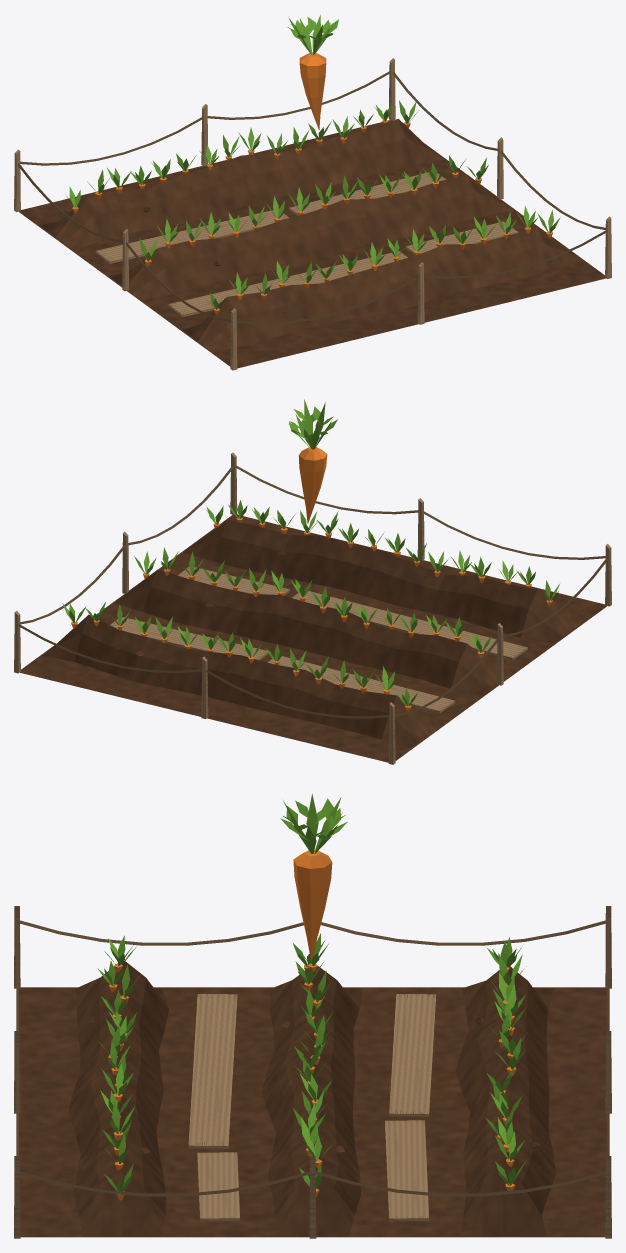
File: example-parcel_LOD0.glb
3 views of the same model, one above another, from view 1: azimuth 30°, elevation 25°; view 2: azimuth 150°, elevation 25°; view 3: azimuth 270°, elevation 25° (orthographic). The views are drawn at different scales.
Visible parts, largest first — view 1: sol_000_LOD0, butte_035_LOD0, butte_018_LOD0, butte_001_LOD0, marqueur_062_LOD0, planche_052_LOD0, planche_054_LOD0, planche_055_LOD0, planche_053_LOD0, corde_068_LOD0, corde_063_LOD0, corde_064_LOD0 (+1 smaller); view 2: sol_000_LOD0, butte_001_LOD0, butte_018_LOD0, butte_035_LOD0, marqueur_062_LOD0, planche_052_LOD0, planche_054_LOD0, planche_055_LOD0, planche_053_LOD0, corde_063_LOD0, corde_068_LOD0, corde_067_LOD0 (+1 smaller); view 3: sol_000_LOD0, butte_001_LOD0, butte_035_LOD0, butte_018_LOD0, planche_052_LOD0, planche_054_LOD0, marqueur_062_LOD0, planche_055_LOD0, planche_053_LOD0, corde_065_LOD0, corde_066_LOD0, corde_069_LOD0 (+1 smaller).
Part boxes in pixels (box(x1,y1,x2,y2)): sol_000_LOD0: box(19, 120, 605, 368); butte_035_LOD0: box(39, 118, 444, 249); butte_018_LOD0: box(109, 174, 514, 300); butte_001_LOD0: box(183, 227, 582, 352); marqueur_062_LOD0: box(287, 14, 338, 130); planche_052_LOD0: box(168, 251, 407, 316); planche_054_LOD0: box(95, 209, 289, 263); planche_055_LOD0: box(289, 172, 446, 215); planche_053_LOD0: box(405, 221, 518, 254); corde_068_LOD0: box(20, 117, 203, 165); corde_063_LOD0: box(236, 275, 419, 324); corde_064_LOD0: box(424, 230, 606, 278); sol_000_LOD0: box(20, 514, 606, 762); butte_001_LOD0: box(183, 520, 585, 643); butte_018_LOD0: box(114, 569, 513, 697); butte_035_LOD0: box(42, 614, 443, 748); marqueur_062_LOD0: box(288, 399, 337, 523); planche_052_LOD0: box(291, 590, 527, 659); planche_054_LOD0: box(267, 656, 455, 713); planche_055_LOD0: box(110, 617, 268, 660); planche_053_LOD0: box(178, 566, 289, 595); corde_063_LOD0: box(422, 511, 605, 559); corde_068_LOD0: box(206, 670, 389, 718); corde_067_LOD0: box(19, 624, 201, 672); sol_000_LOD0: box(19, 987, 606, 1237); butte_001_LOD0: box(68, 960, 169, 1236); butte_035_LOD0: box(455, 965, 555, 1236); butte_018_LOD0: box(261, 965, 362, 1236); planche_052_LOD0: box(188, 994, 237, 1149); planche_054_LOD0: box(389, 994, 436, 1117); marqueur_062_LOD0: box(280, 794, 347, 961); planche_055_LOD0: box(385, 1120, 429, 1221); planche_053_LOD0: box(197, 1152, 240, 1221); corde_065_LOD0: box(20, 1171, 309, 1196); corde_066_LOD0: box(315, 1171, 605, 1196); corde_069_LOD0: box(321, 920, 605, 945).
Size of the model in its own units: 2.53 by 1.46 by 2.53.
4 materials, 2 textured.
